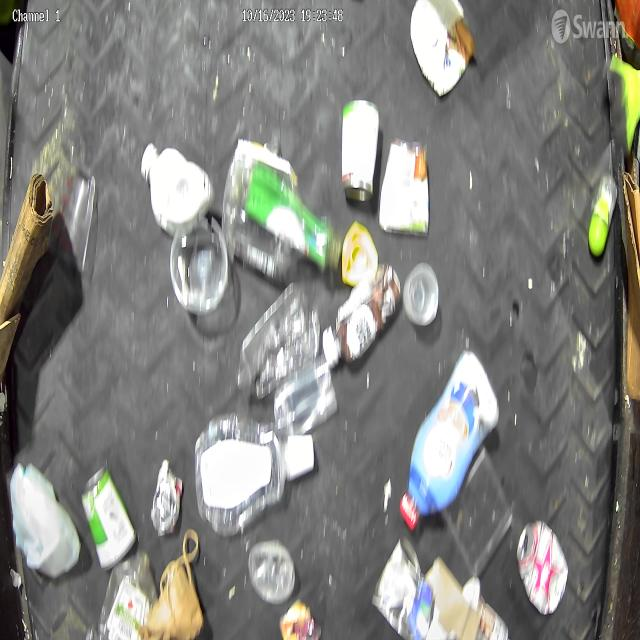can: (80, 462, 139, 574), (378, 135, 432, 241), (371, 530, 423, 640), (515, 516, 569, 616), (341, 96, 381, 205), (150, 456, 184, 539)
plastic_bottle: (192, 416, 318, 541)
